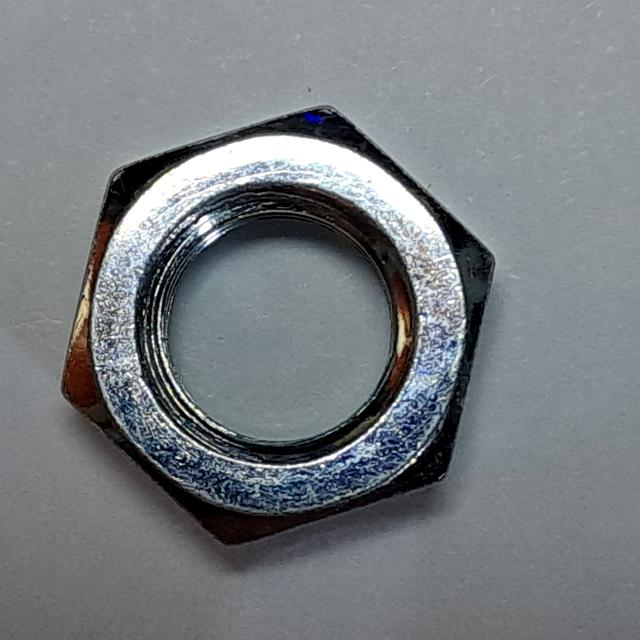Excellent: (36, 89, 516, 561)
